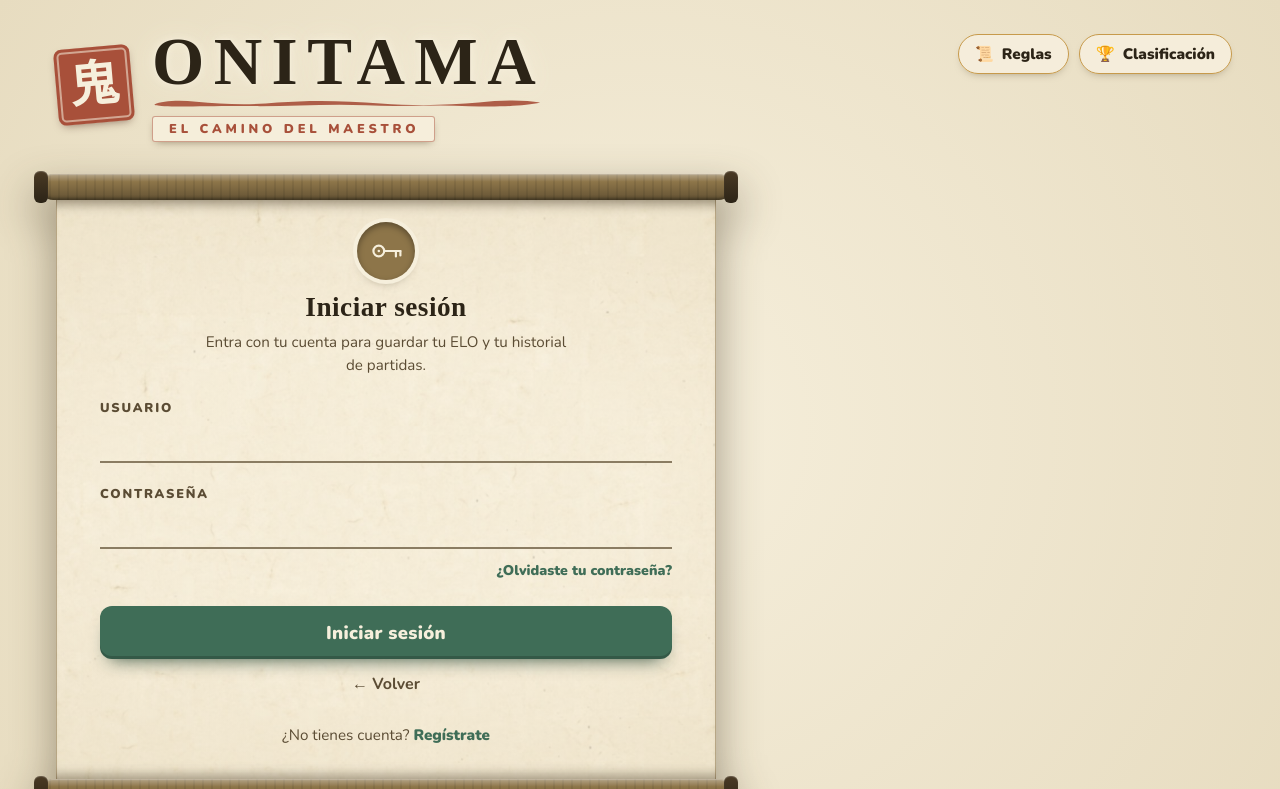
Test case: LoginPage › muestra un mensaje de error si el inicio de sesión falla
The width and height of the screenshot is (1280, 789).
Type "testuser" into the field labelled "Usuario" at [386, 441], box [100, 419, 672, 463]
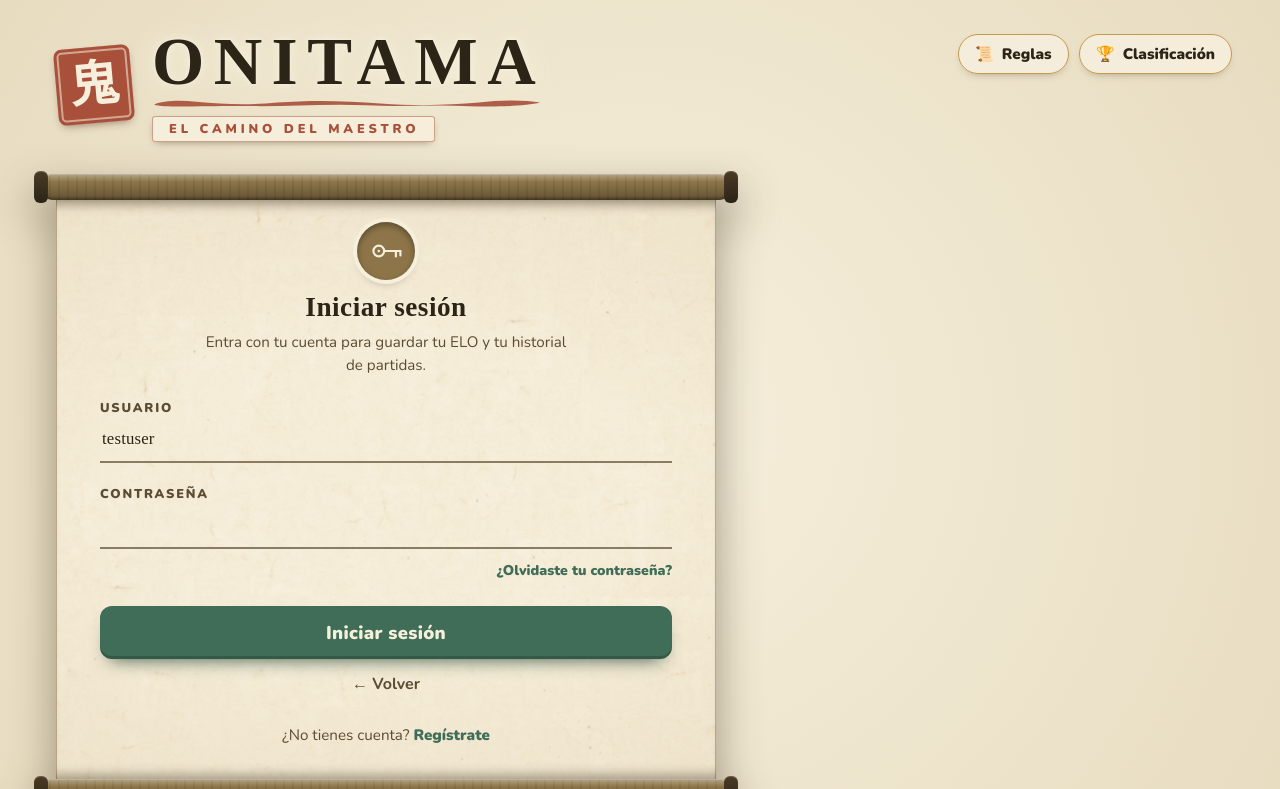
Type "wrongpassword" into the password field labelled "Contraseña" at [386, 527], box [100, 505, 672, 549]
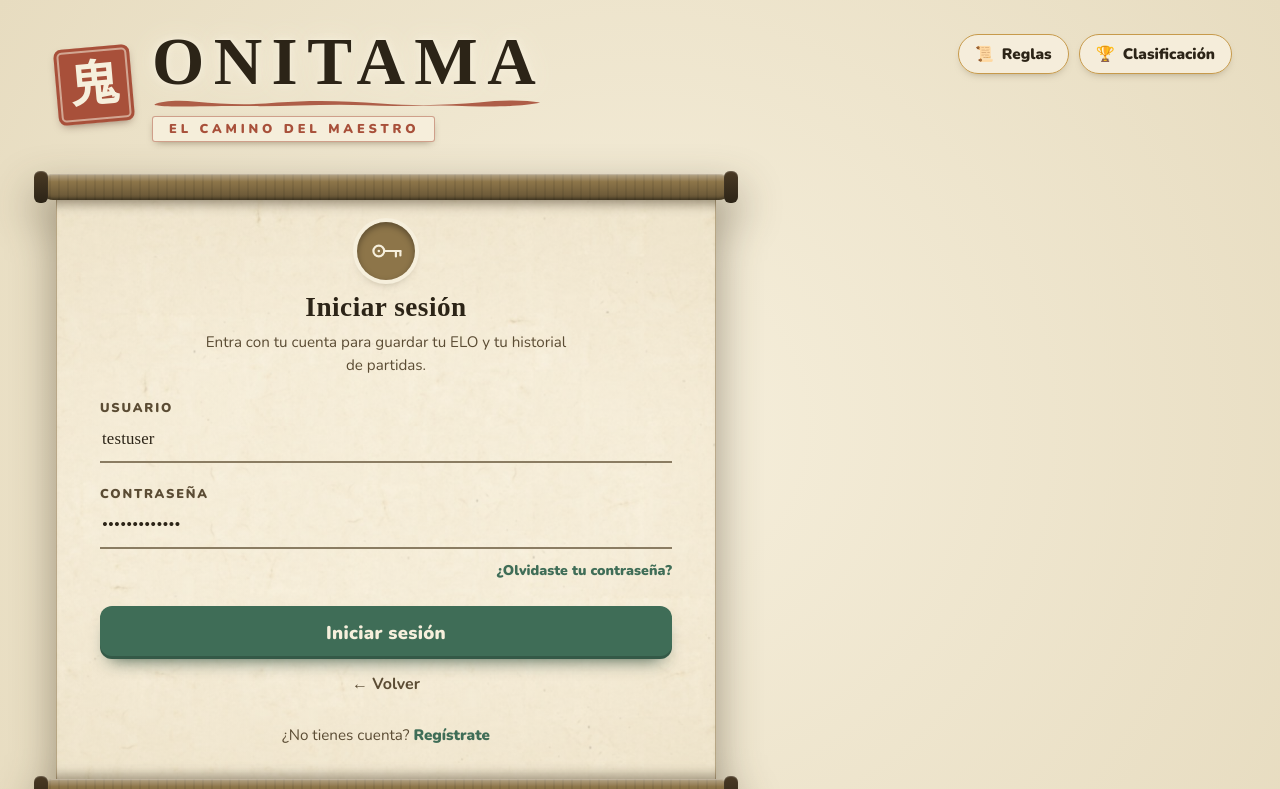
Click the button "Iniciar sesión" at [386, 632], box [100, 606, 672, 659]
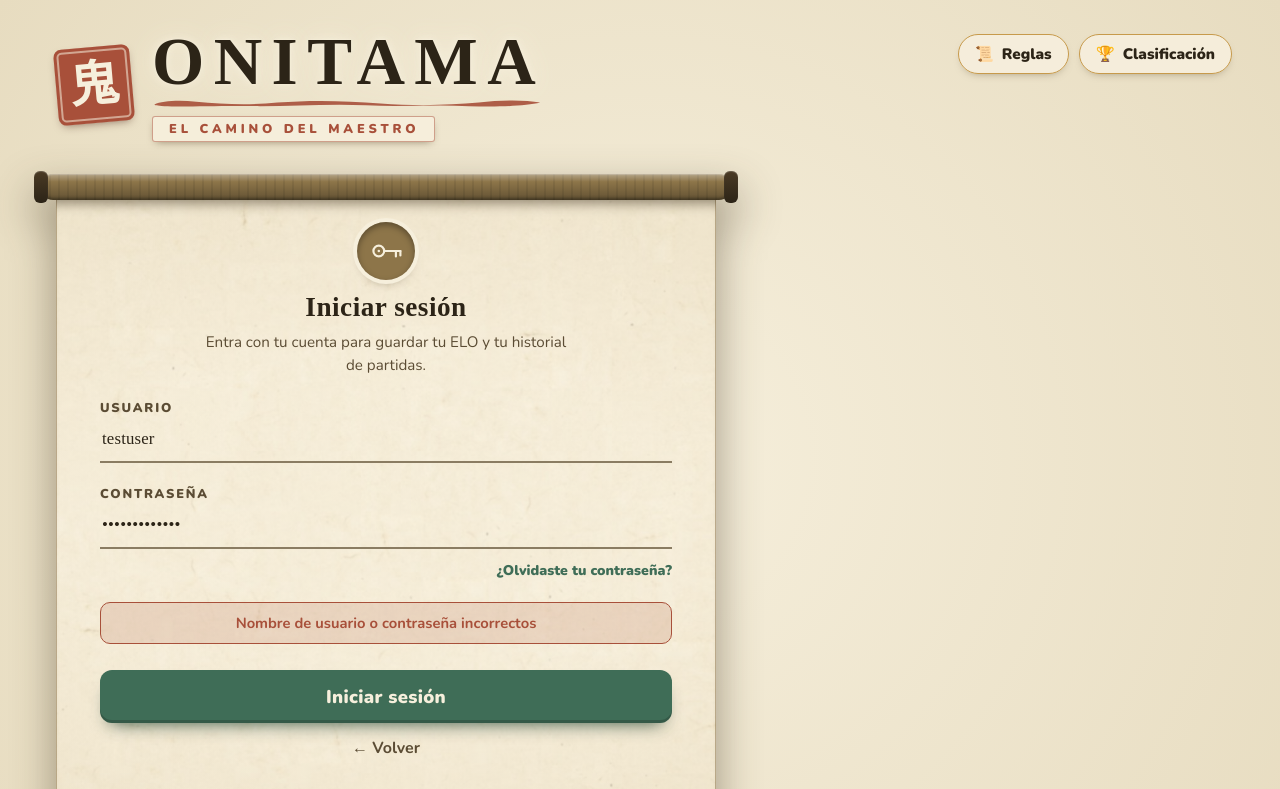
Expected: the text "Nombre de usuario o contraseña incorrectos" is shown, [100, 602, 672, 644]
